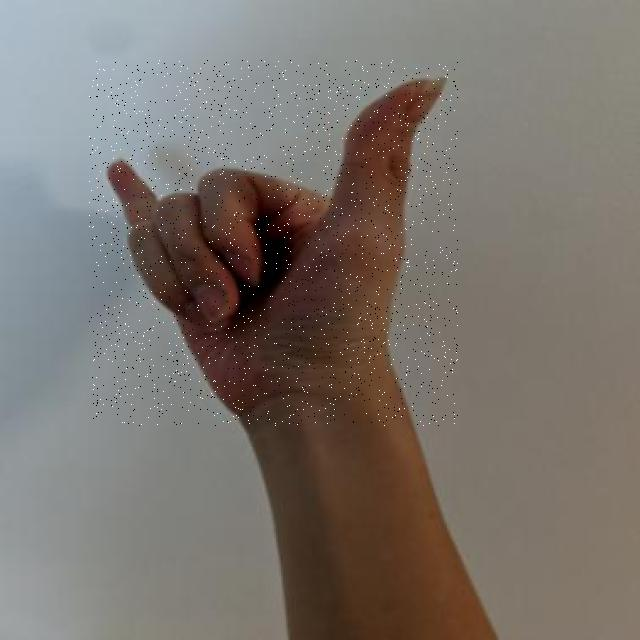Y: (89, 60, 458, 426)
